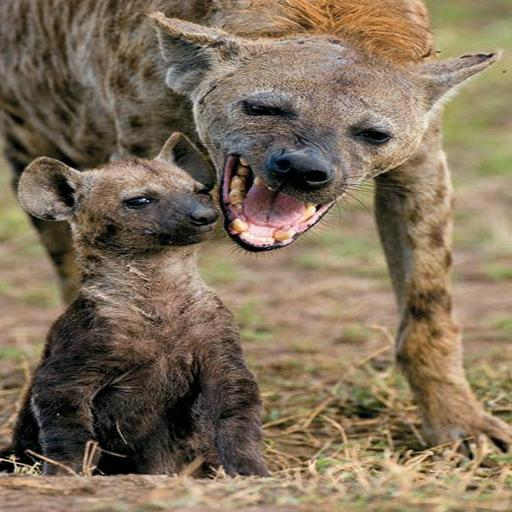Hyena: (0, 0, 512, 465), (0, 127, 283, 493)
